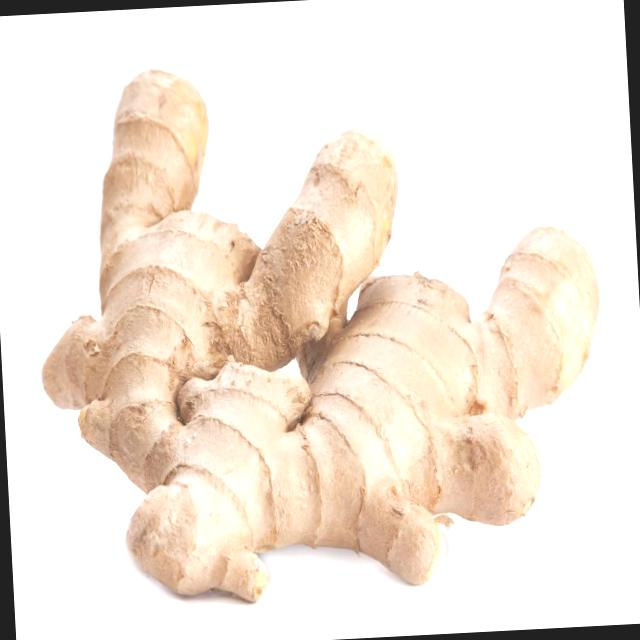ginger-root: (14, 27, 624, 619)
